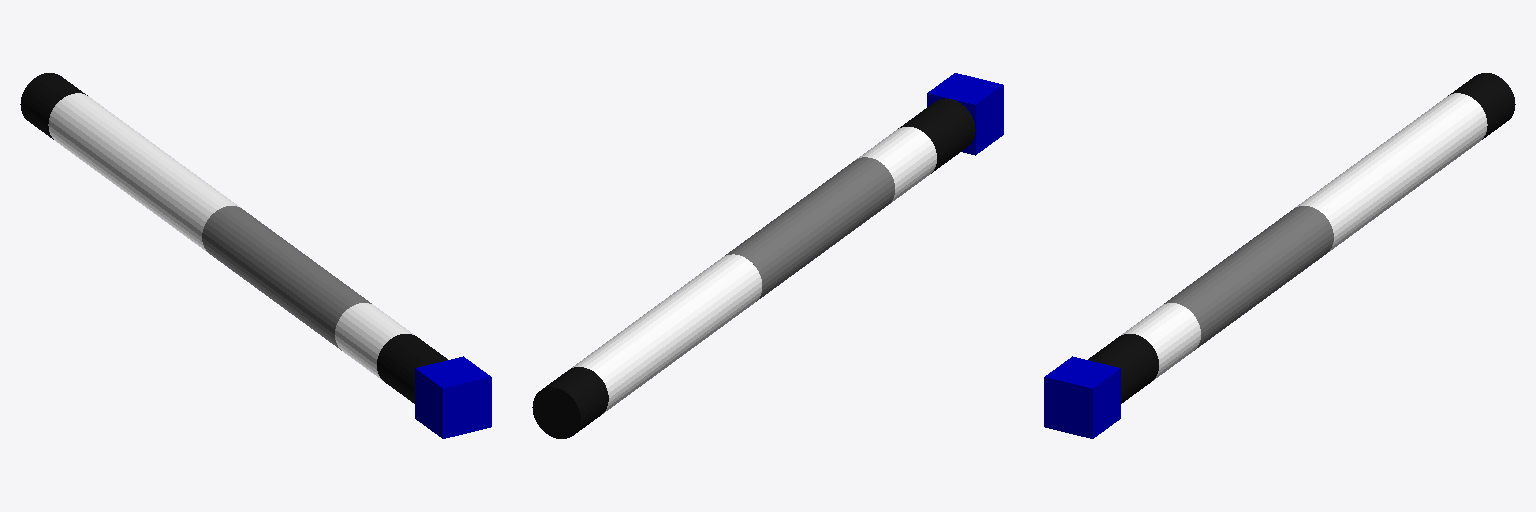
URDF robot description (robot_brazo):
<?xml version="1.0"?>

<robot name="robot_brazo">

  <!-- Color of materials -->
  <material name="Blue">
    <color rgba="0 0 0.8 1"/>
  </material>
  <material name="Red">
    <color rgba="1 0 0 1"/>
  </material>
  <material name="Green">
    <color rgba="0 1 0 1"/>
  </material>
  <material name="Yellow">
    <color rgba="1 1 0 1"/>
  </material>
  <material name="White">
    <color rgba="1.1 1.1 1.1 1"/>
  </material>
  <material name="Black">
    <color rgba="0.1 0.1 0.1 1"/>
  </material>>


  <link name="base">
    <visual>
      <geometry>
        <box size="0.4 0.4 0.4"/>
     </geometry>
      <origin rpy="0 0 0" xyz="0 0 0"/>
      <material name="Blue" />
    </visual>
  </link> 
  <gazebo reference="base">
    <material>Gazebo/Blue</material>
  </gazebo>

  <joint name="base-0_joint" type="revolute">
    <parent link="base"/>
    <child link="0_link"/>
    <origin rpy="0 0 0" xyz="0 0.2 0"/>
    <axis xyz="1 0 0" />
    <limit effort="300" velocity="0.1" lower="-1.4" upper="1.4"/>
  </joint>

  <link name="0_link">
    <visual>
      <geometry>
        <cylinder length="0.55" radius="0.2"/>
     </geometry>
      <origin rpy="1.5708 0 0" xyz="0 0.275 0"/>
      <material name="Black" />
    </visual>
  </link> 
  <gazebo reference="0_link">
    <material>Gazebo/Black</material>
  </gazebo>

  <joint name="0-1_joint" type="revolute">
    <parent link="0_link"/>
    <child link="1_link"/>
    <origin rpy="0 0 0" xyz="0 0.55 0" />
    <axis xyz="1 0 0" />
    <limit effort="300" velocity="0.1" lower="-1" upper="1"/>
  </joint>

  <link name="1_link">
    <visual>
      <geometry>
        <cylinder length="0.6" radius="0.2"/>
      </geometry>
      <origin rpy="1.5708 0 0" xyz="0 0.3 0"/>
      <material name="White"/>
    </visual>
  </link>
  <gazebo reference="1_link">
    <material>Gazebo/White</material>
  </gazebo>

  <joint name="2_joint" type="revolute">
    <parent link="1_link"/>
    <child link="2_link"/>
    <origin rpy="0 0 0" xyz="0 0.6 0"/>
    <axis xyz="1 0 0" />
    <limit effort="300" velocity="0.1" lower="-1.15" upper="1.15"/>
  </joint>

  <link name="2_link">
    <visual>
      <geometry>
        <cylinder length="1.9" radius="0.2"/>
      </geometry>
      <origin rpy="1.5708 0 0" xyz="0 0.95 0"/>
      <material name="LightGrey">
        <color rgba="0.5 0.5 0.5 1.0"/>
      </material>
    </visual>
  </link>
  <gazebo reference="2_link">
    <material>Gazebo/Grey</material>
  </gazebo>

  <joint name="4_joint" type="revolute">
    <parent link="2_link"/>
    <child link="4_link"/>
    <origin rpy="0 0 0" xyz="0 1.9 0"/>
    <axis xyz="1 0 0" />
    <limit effort="300" velocity="0.1" lower="-1.1" upper="1.85"/>
  </joint>

  <link name="4_link">
    <visual>
      <geometry>
        <cylinder length="2.2" radius="0.2"/>
      </geometry>
      <origin rpy="1.5708 0 0" xyz="0 1.1 0"/>
      <material name="White"/>
    </visual>
  </link>
  <gazebo reference="4_link">
    <material>Gazebo/White</material>
  </gazebo>

  <joint name="5_joint" type="revolute">
    <parent link="4_link"/>
    <child link="5_link"/>
    <origin rpy="0 0 0" xyz="0 2.2 0"/>
    <axis xyz="1 0 0" />
    <limit effort="300" velocity="0.1" lower="-0.85" upper="0.85"/>
  </joint>

  <link name="5_link">
    <visual>
      <geometry>
        <cylinder length="0.4" radius="0.2"/>
      </geometry>
      <origin rpy="1.5708 0 0" xyz="0 0.2 0"/>
      <material name="Black" />
    </visual>
  </link>
  <gazebo reference="1_link">
    <material>Gazebo/Black</material>
  </gazebo>

  <joint name="6_joint" type="revolute">
    <parent link="5_link"/>
    <child link="mesh_6_link"/>
    <origin rpy="0 0 0" xyz="0 0.4 0"/>
    <axis xyz="1 0 0" />
    <limit effort="300" velocity="0.1" lower="-0.85" upper="0.85"/>
  </joint>

   <link name="mesh_6_link">
        <visual>
            <origin rpy="3.1416 1.5708 0" xyz="0 0.275 0"/>
            <geometry>
                <mesh filename="package://lab2/manorobot/mano.dae"
                 scale="0.01 0.01 0.01" />
            </geometry>
        </visual>
    </link> 

</robot>

--- What the picture shows (computed from the rendered views, not written in the file) ---
3 views of the same robot in one strip: view 1: azimuth 30°, elevation 25°; view 2: azimuth 150°, elevation 25°; view 3: azimuth 330°, elevation 25° (orthographic).
Robot: robot_brazo — 7 links, 6 joints (6 revolute); root link base; default pose: every joint at zero.
Visible links, largest first — view 1: 4_link, 2_link, base, 1_link, 0_link, 5_link; view 2: 4_link, 2_link, 5_link, base, 1_link, 0_link; view 3: 4_link, 2_link, base, 1_link, 0_link, 5_link.
Boxes of the visible links, x1=… form: 4_link: x1=48, y1=93, x2=240, y2=251; 2_link: x1=202, y1=206, x2=371, y2=350; base: x1=415, y1=356, x2=491, y2=438; 1_link: x1=335, y1=303, x2=413, y2=380; 0_link: x1=377, y1=334, x2=447, y2=403; 5_link: x1=20, y1=73, x2=87, y2=139; 4_link: x1=569, y1=254, x2=761, y2=413; 2_link: x1=725, y1=157, x2=894, y2=301; 5_link: x1=532, y1=367, x2=608, y2=438; base: x1=927, y1=73, x2=1003, y2=155; 1_link: x1=856, y1=127, x2=936, y2=203; 0_link: x1=898, y1=98, x2=975, y2=173; 4_link: x1=1295, y1=93, x2=1487, y2=251; 2_link: x1=1164, y1=206, x2=1333, y2=350; base: x1=1044, y1=356, x2=1120, y2=438; 1_link: x1=1122, y1=303, x2=1200, y2=380; 0_link: x1=1088, y1=334, x2=1158, y2=403; 5_link: x1=1448, y1=73, x2=1515, y2=139.
Size in the robot's own frame: 0.4 by 6.05 by 0.4 metres.
0 mesh visuals loaded from 1 distinct referenced files (none loaded); not drawn: 1 (reference not matched to a file when rendering).